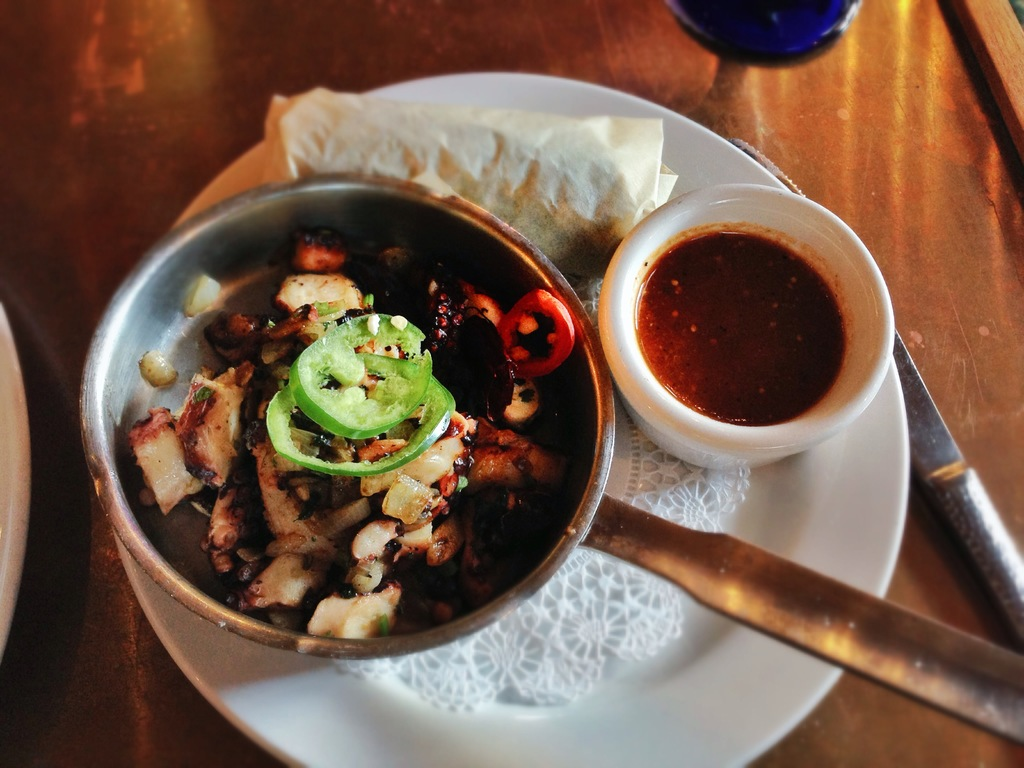salad: (99, 226, 582, 641)
